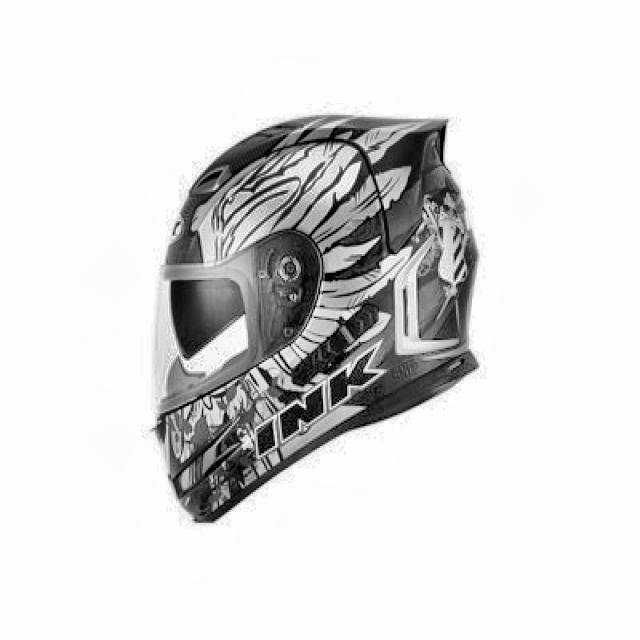Helmet: (153, 106, 501, 524)
